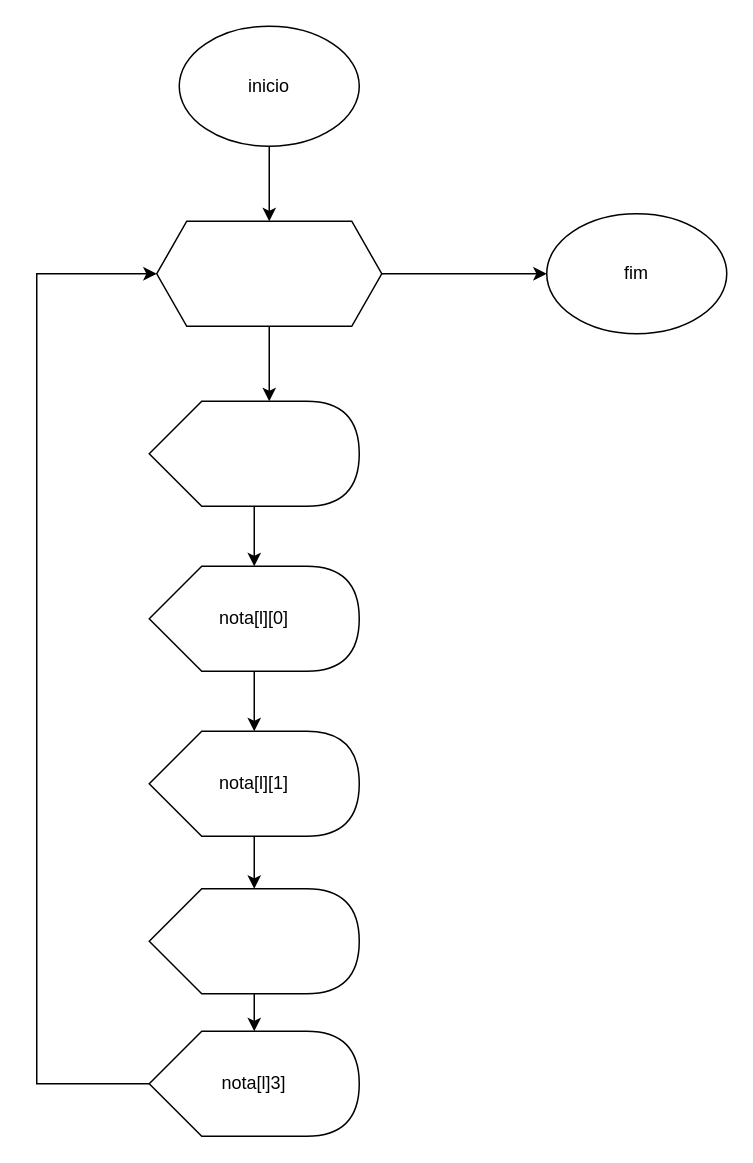
Image size: 753x1163. Some labels were removed from this diagram. Here are the shapes that lost their labels. From the top down, the centre of each, then its label:
the point at 268,273: l,0,5,1
the point at 253,453: l+1
the point at 253,940: nota[l][2]
